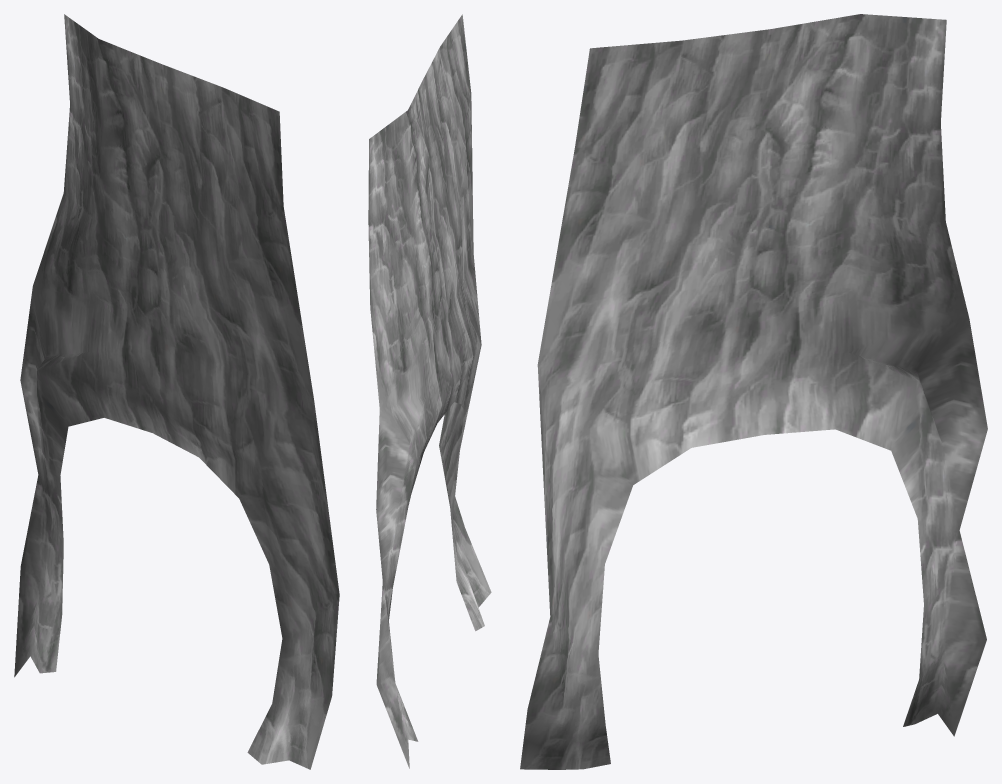
File: SWORDLIGHT20_PS-AREA03_207.fbx
3 views of the same model, side by side, from view 1: azimuth 30°, elevation 25°; view 2: azimuth 150°, elevation 25°; view 3: azimuth 270°, elevation 25° (orthographic). The views are drawn at different scales.
Parts seen in each view (by area): view 1: SWORDLIGHT20_PS-AREA03_207; view 2: SWORDLIGHT20_PS-AREA03_207; view 3: SWORDLIGHT20_PS-AREA03_207.
Boxes of the visible parts, x1,y1,x2,y2 form: SWORDLIGHT20_PS-AREA03_207: [14, 14, 339, 769]; SWORDLIGHT20_PS-AREA03_207: [368, 14, 491, 768]; SWORDLIGHT20_PS-AREA03_207: [520, 14, 987, 769].
Bounding box in the file's own units: 38660 × 165255 × 93836.
Materials: 1 (1 with a texture image).
